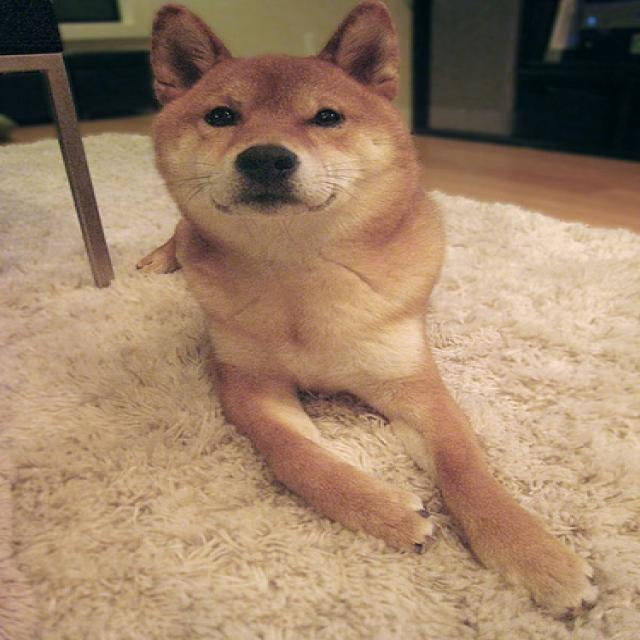dog-shiba_inu: (125, 1, 608, 637)
